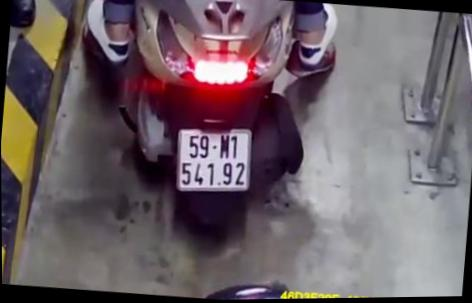LP: (171, 120, 257, 199)
